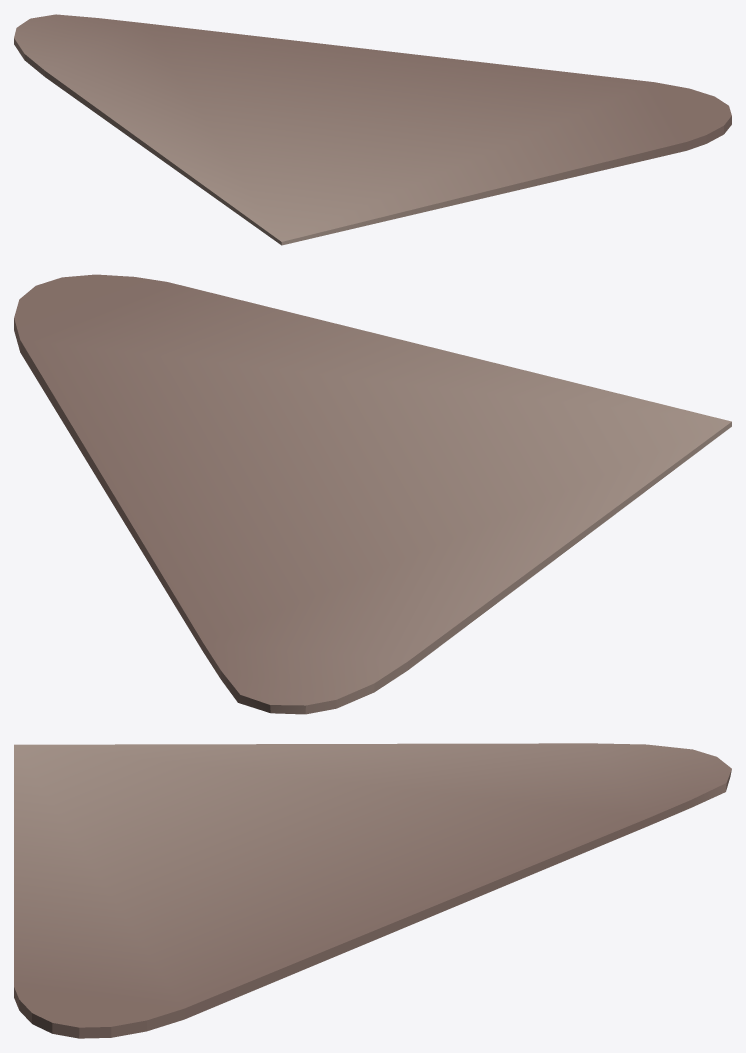
The model's file is Public vegetable garden.fbx.
3 renders of one model, top to bottom at view 1: azimuth 30°, elevation 25°; view 2: azimuth 150°, elevation 25°; view 3: azimuth 270°, elevation 25°, orthographic. The views are drawn at different scales.
Parts seen in each view (by area): view 1: Cube.050; view 2: Cube.050; view 3: Cube.050.
Boxes of the visible parts, x1,y1,x2,y2 form: Cube.050: (14,14,731,245); Cube.050: (14,274,731,714); Cube.050: (14,743,731,1038).
Size of the model in its own units: 25.99 by 27.59 by 0.4639.
